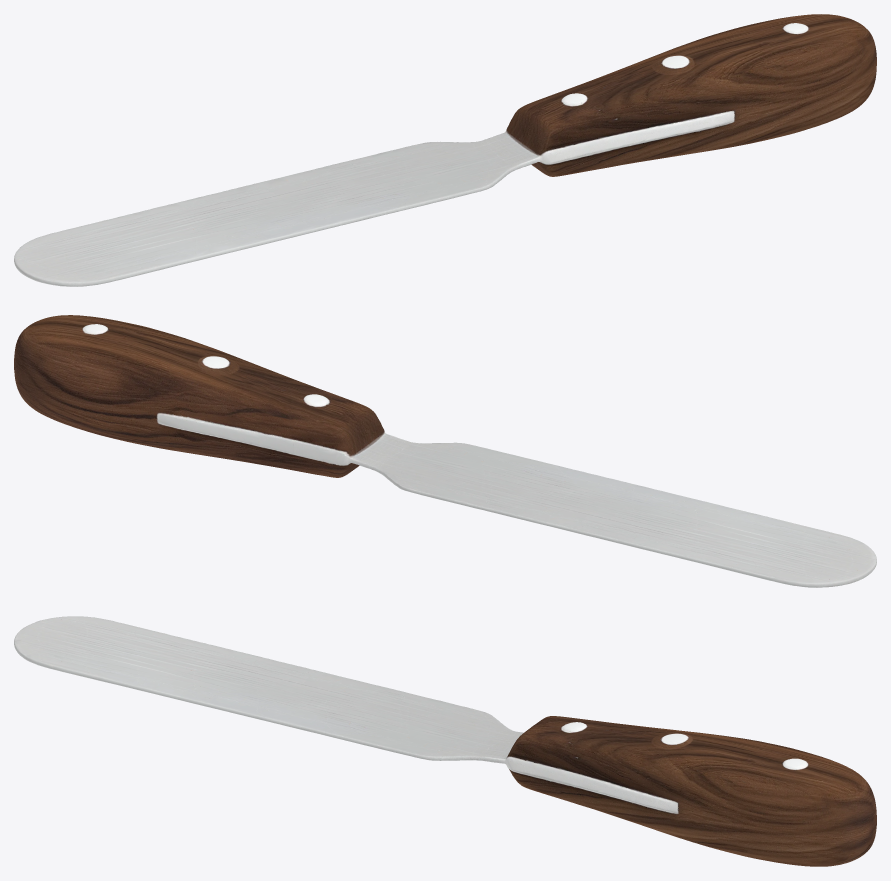
Rendered from blade5M.glb.
The picture shows the model from 3 angles, top to bottom: view 1: azimuth 30°, elevation 25°; view 2: azimuth 150°, elevation 25°; view 3: azimuth 330°, elevation 25°; orthographic projection.
Visible parts, largest first — view 1: Mesh_0.002; view 2: Mesh_0.002; view 3: Mesh_0.002.
Part boxes in pixels (<box>): Mesh_0.002: <box>14,14,876,286</box>; Mesh_0.002: <box>14,315,876,587</box>; Mesh_0.002: <box>14,616,876,866</box>.
Size of the model in its own units: 47.93 by 5 by 6.05.
1 material, 1 textured.
